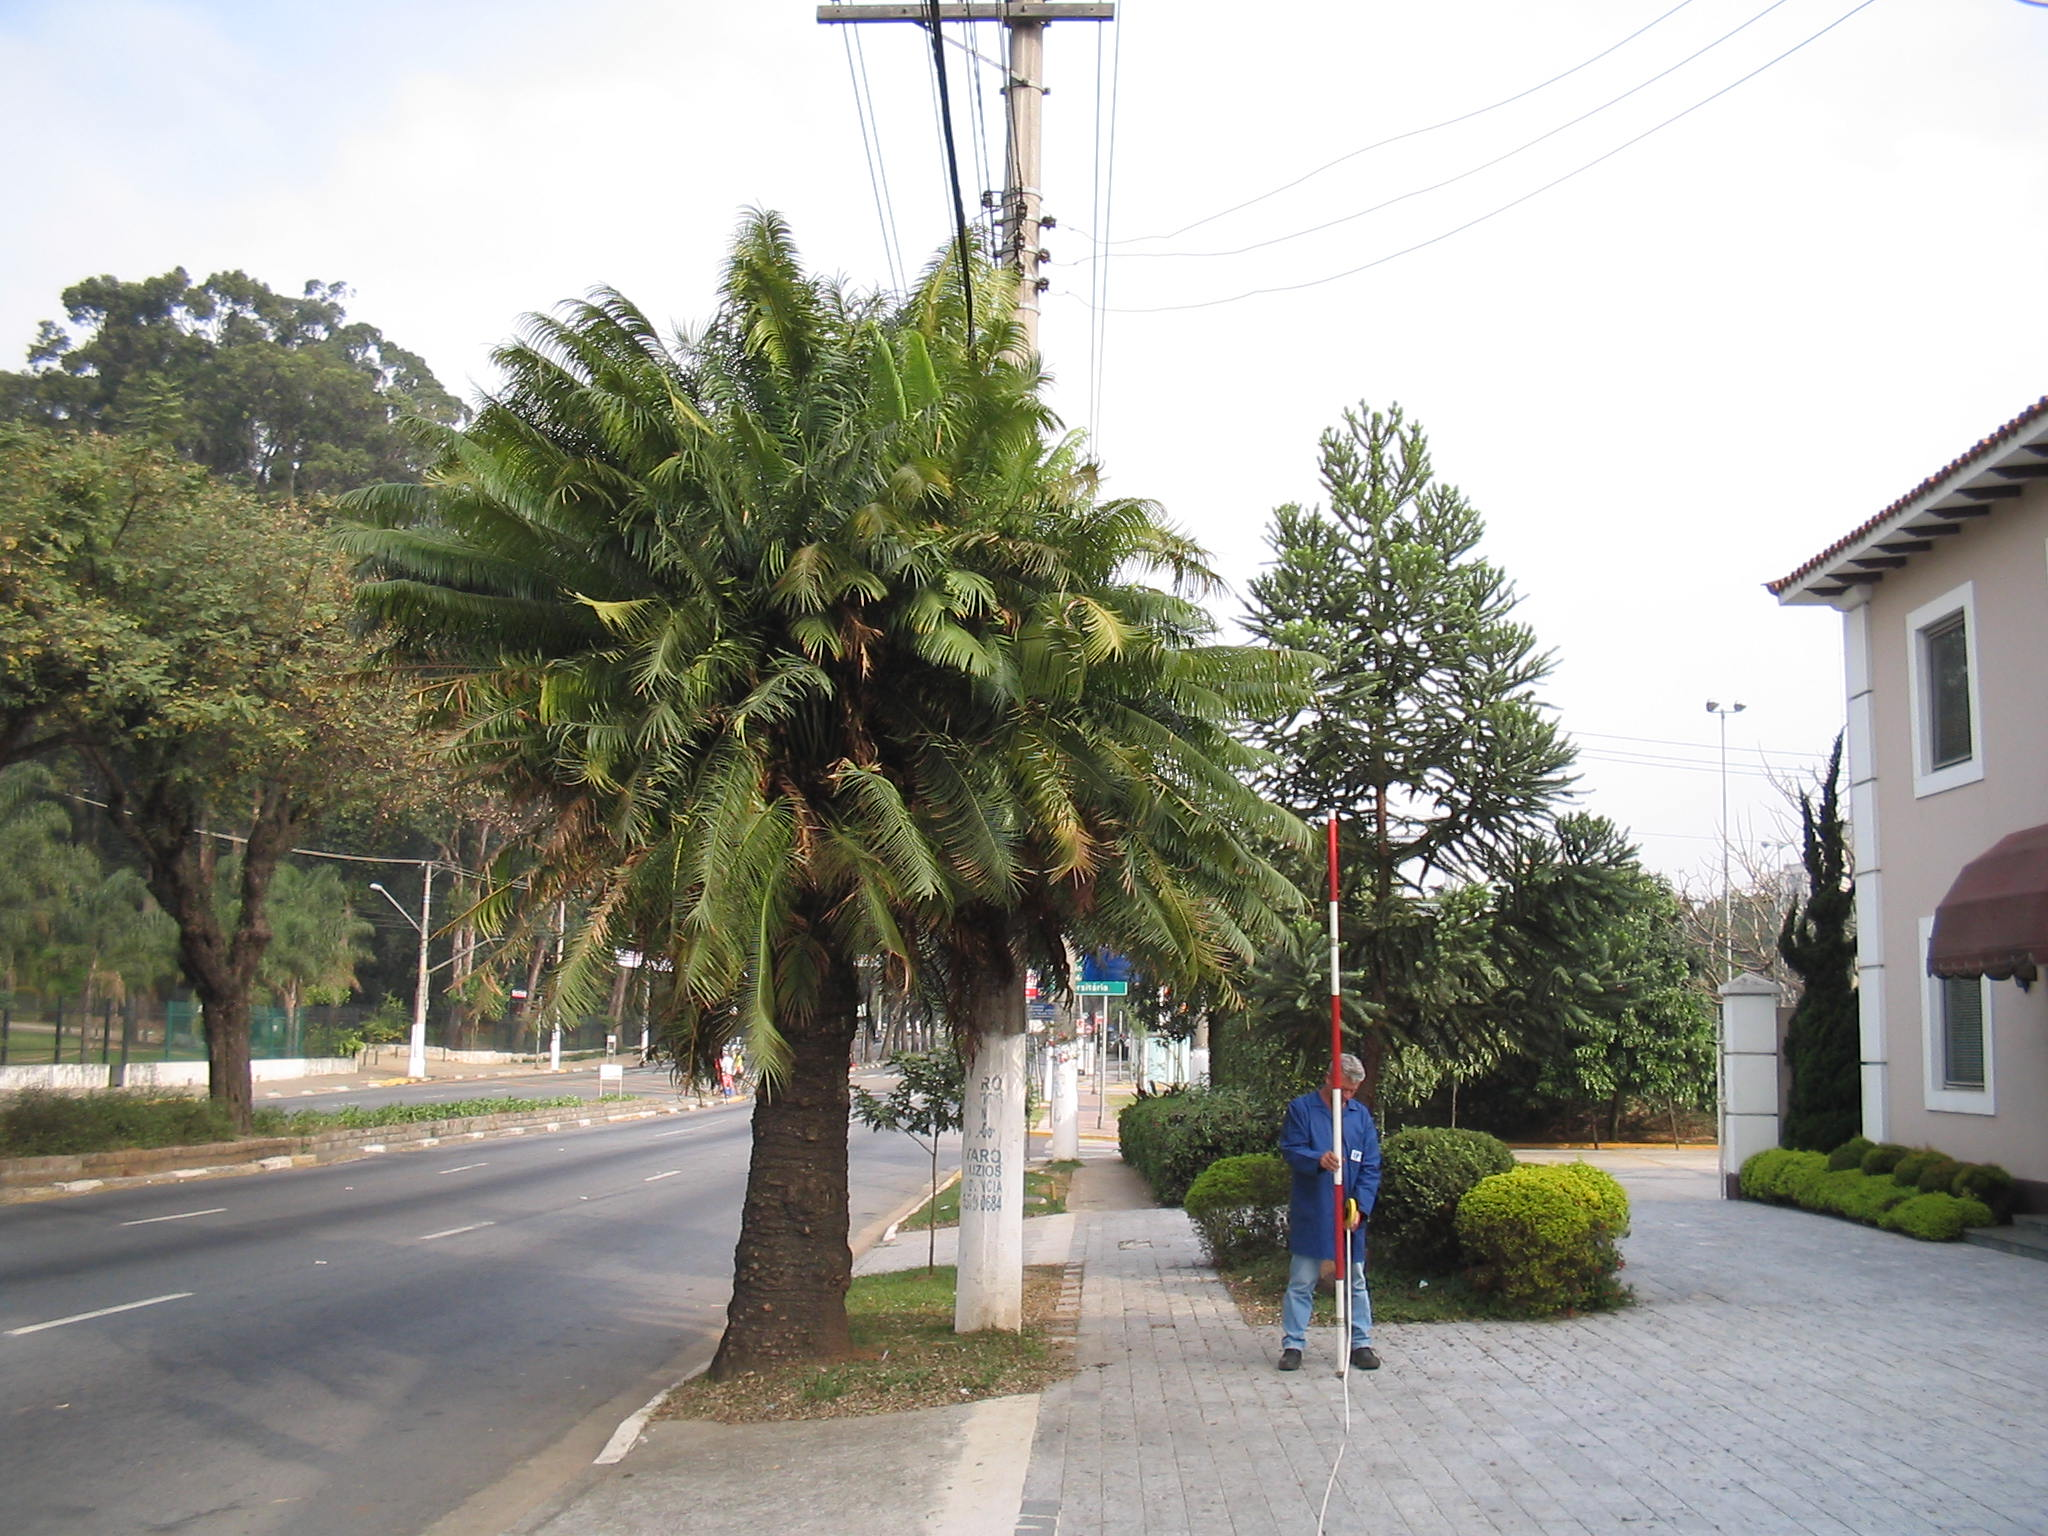crown: (345, 210, 1305, 1089), (6, 423, 414, 860)
stem: (689, 1060, 885, 1376), (176, 973, 273, 1118)
stick: (1306, 815, 1371, 1376)
tree: (337, 207, 1313, 1383), (3, 418, 423, 1120)
